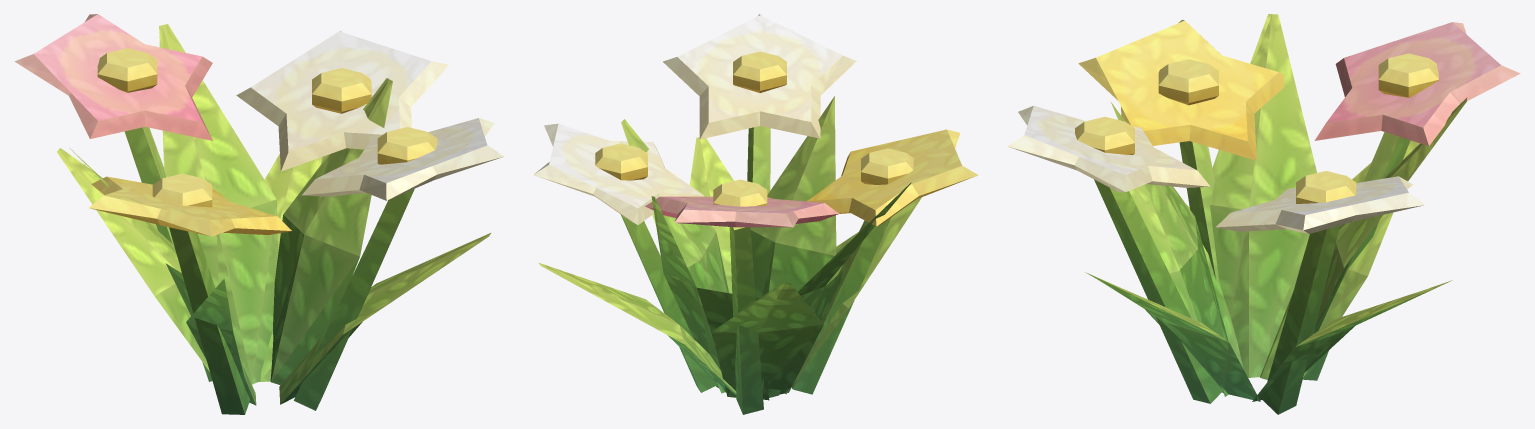
File: ground_cover.glb
3 views of the same model, side by side, from view 1: azimuth 30°, elevation 25°; view 2: azimuth 150°, elevation 25°; view 3: azimuth 270°, elevation 25° (orthographic). The views are drawn at different scales.
Parts seen in each view (by area): view 1: foliage_v3; view 2: foliage_v3; view 3: foliage_v3.
Boxes of the visible parts, x1,y1,x2,y2 form: foliage_v3: [14, 14, 504, 414]; foliage_v3: [534, 14, 978, 414]; foliage_v3: [1007, 14, 1520, 414].
Size of the model in its own units: 4.76 by 3.3 by 4.99.
Materials: 1 (1 with a texture image).
